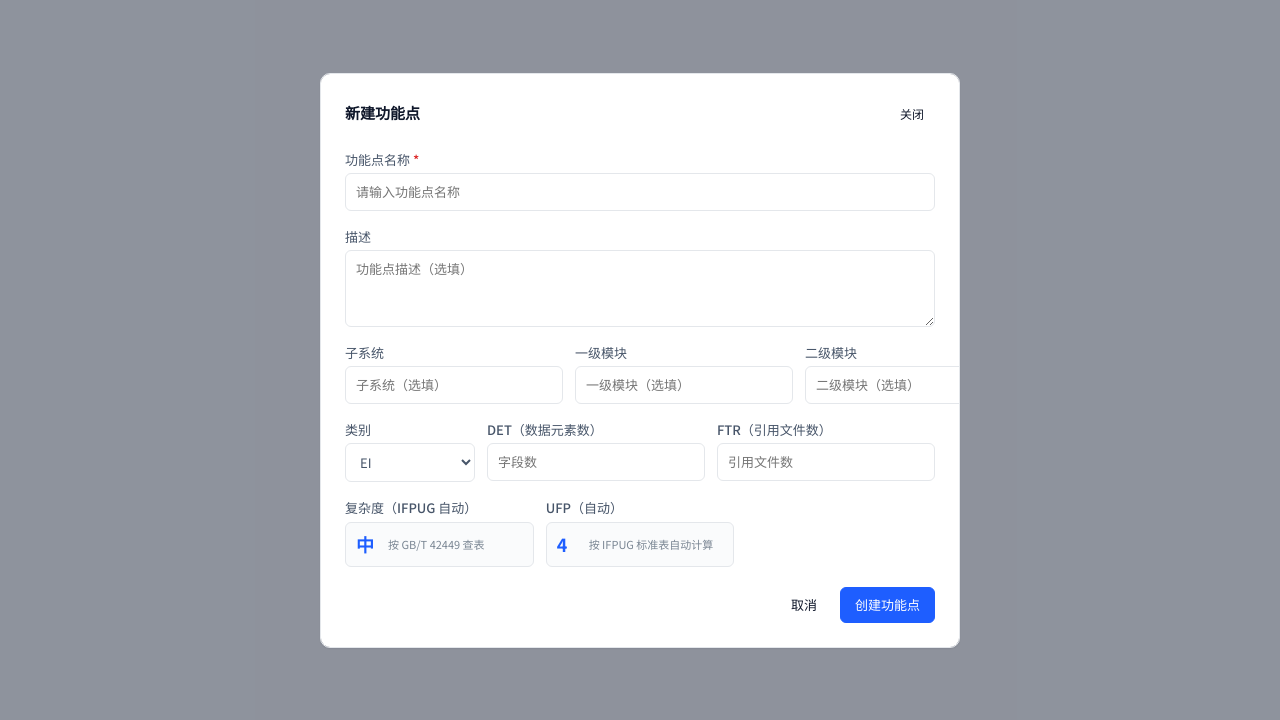
Test: FpFormModal › UFP 自动计算：选 ILF + DET 60 + RET 6 → 复杂度 high → 显示 15
This screenshot has width=1280, height=720.
Select "ILF" in the dropdown with id "fp-category" at (410, 462), box x1=345 y1=443 x2=475 y2=482
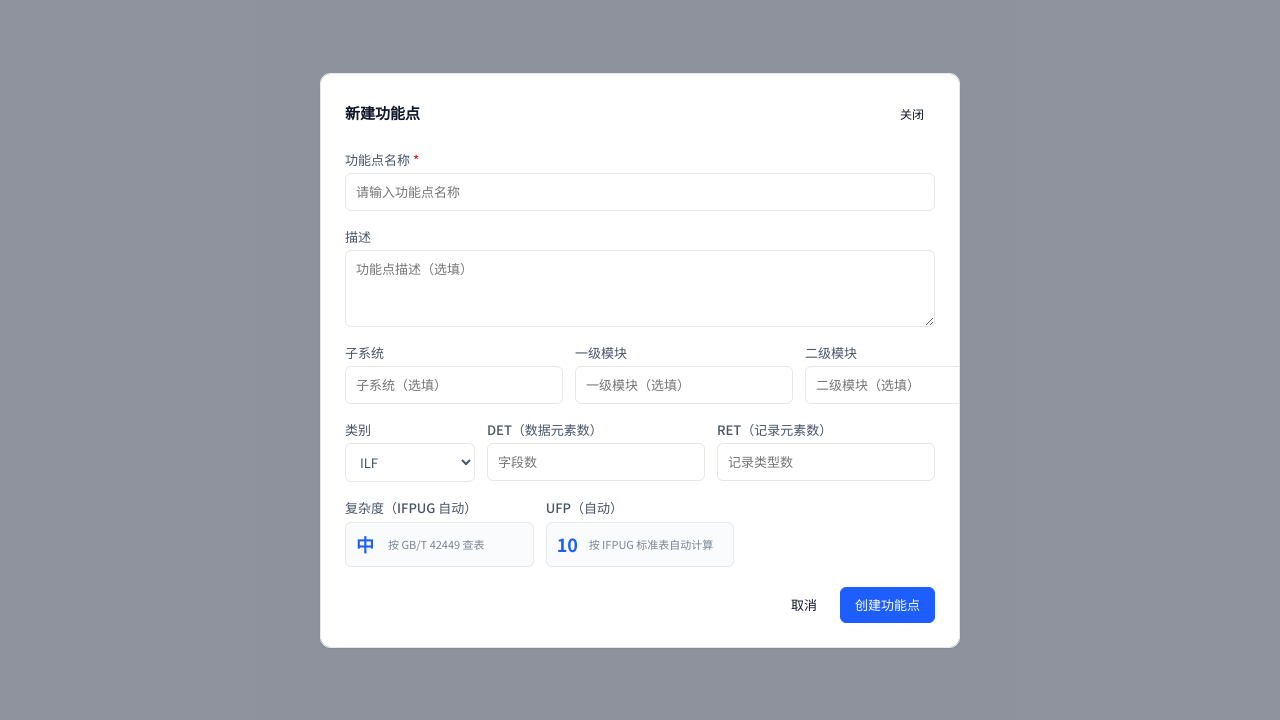
Type "60" into the number field with id "fp-det".
click(596, 462); type("60")  # box x1=487 y1=443 x2=705 y2=480
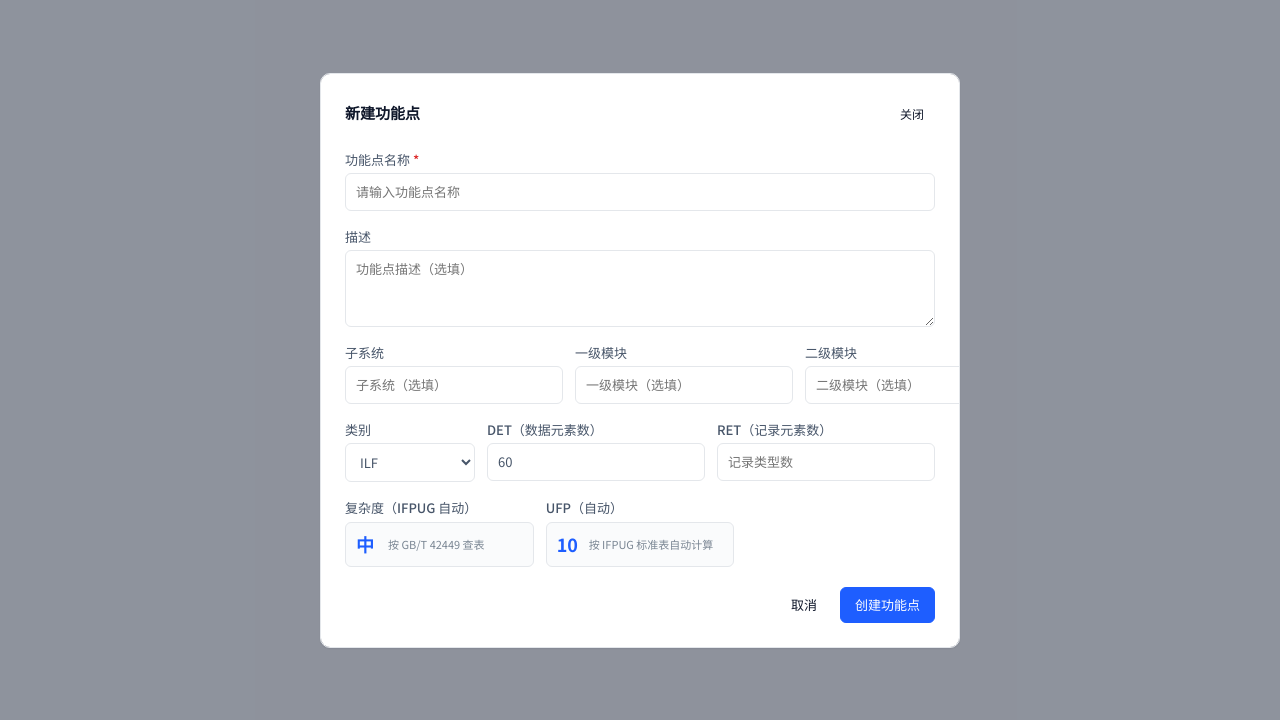
Type "6" into the number field with id "fp-ret".
click(826, 462); type("6")  # box x1=717 y1=443 x2=935 y2=480
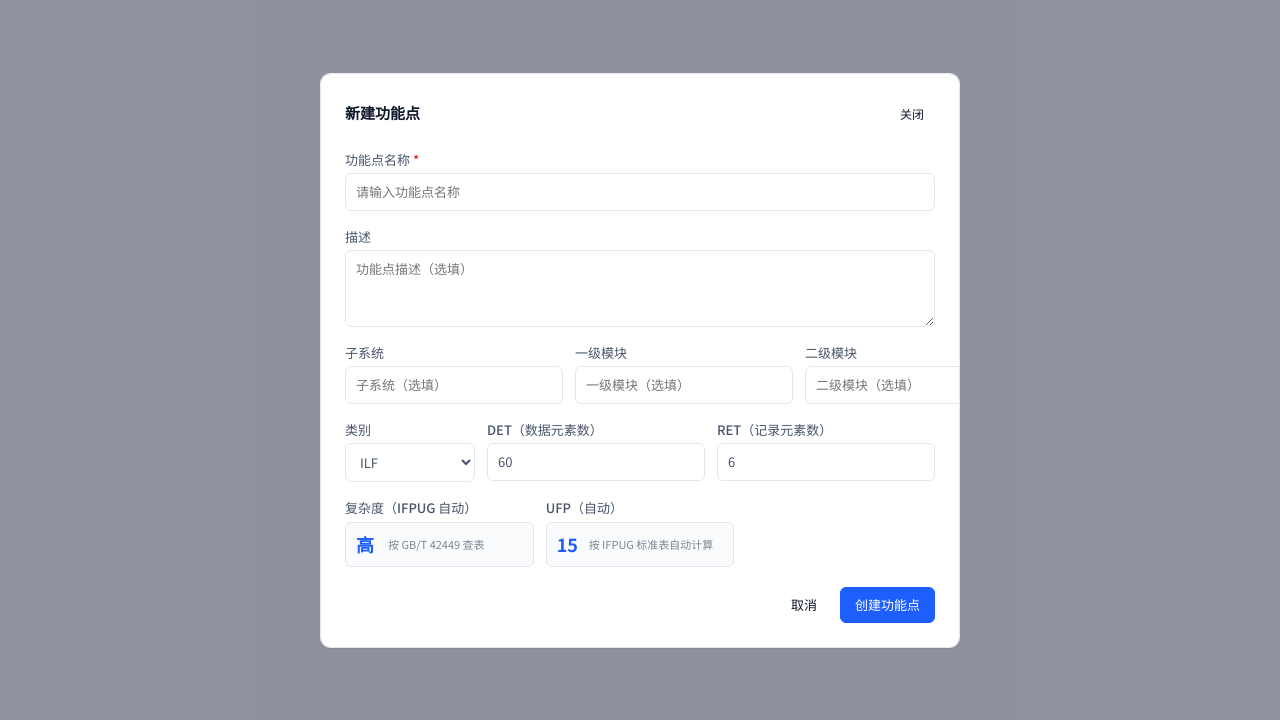
expect the text "15" is shown: met, box x1=557 y1=530 x2=581 y2=558
expect the text with test id "fp-ufp-auto" reads "15": met, box x1=557 y1=530 x2=578 y2=556
